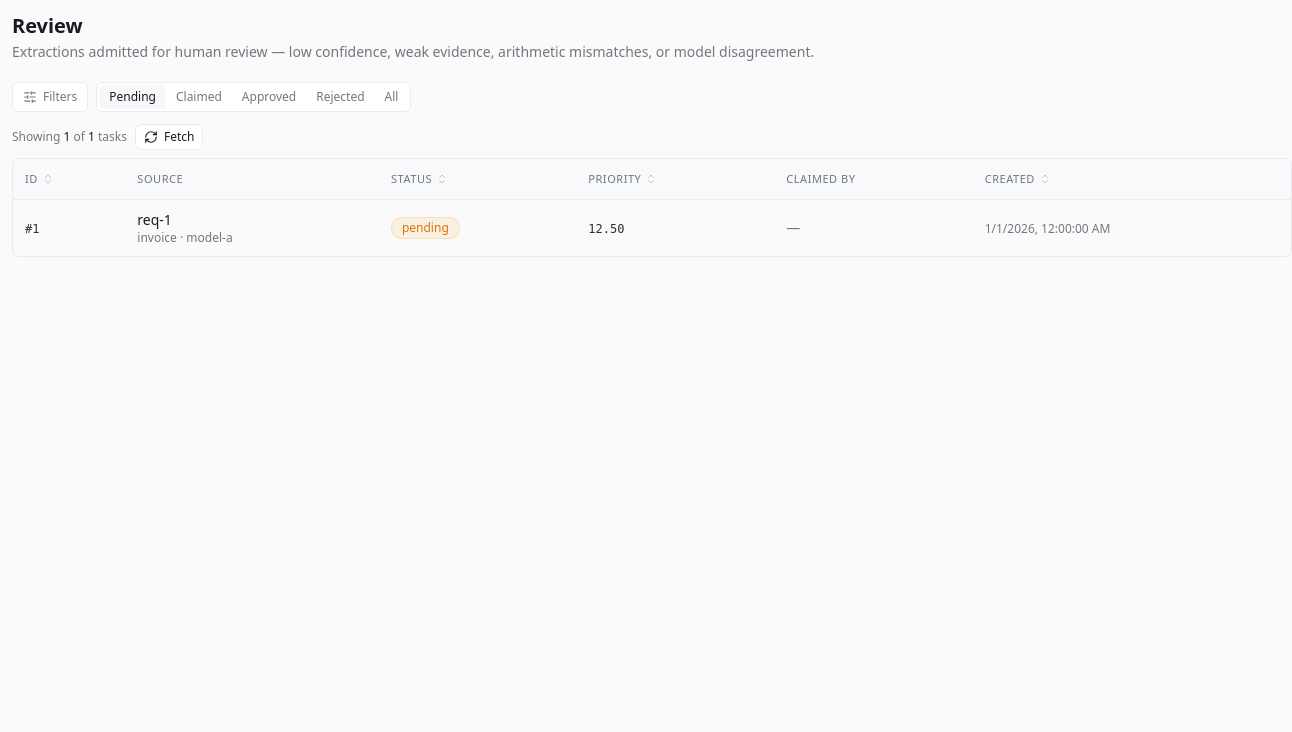
it: Review › renders schema-generated field rows pre-filled with their current values
Click the text "req-1" at [155, 220], box [137,210,172,229]
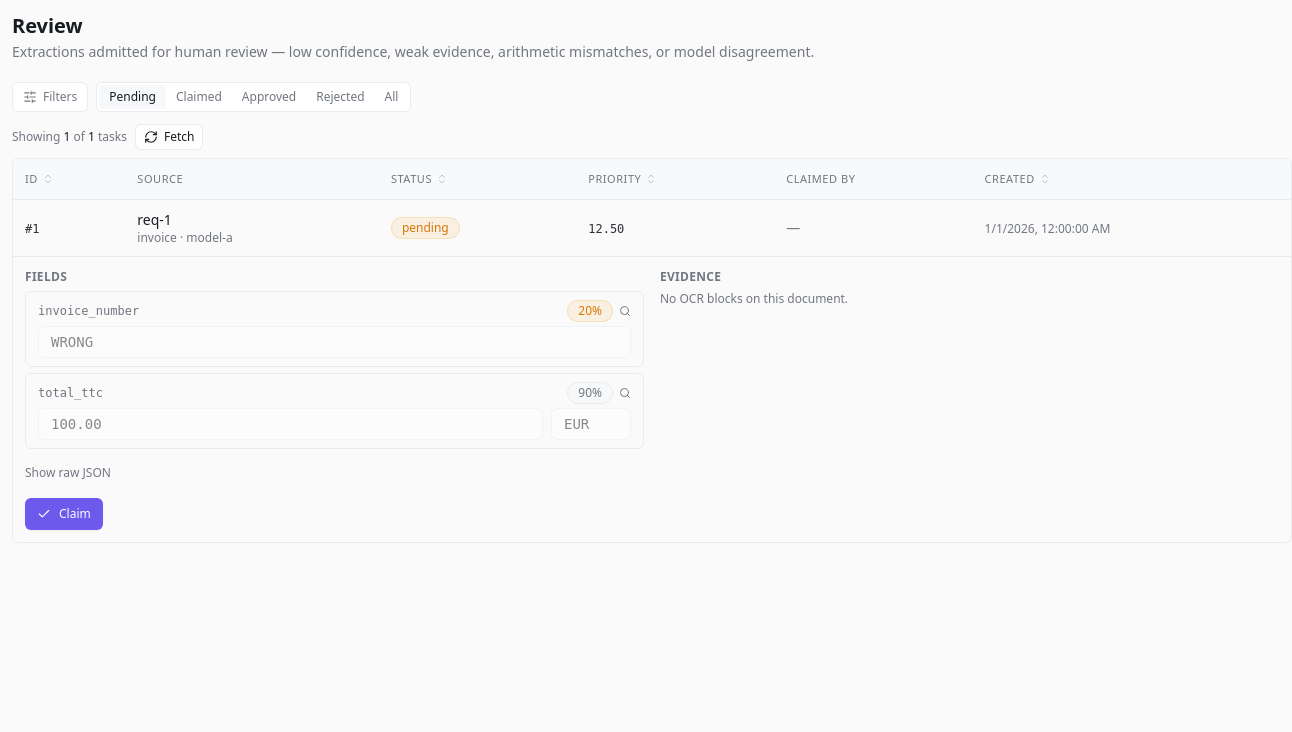
Now the field showing "WRONG" below "invoice_number" is shown, box [38,326,631,358]
Now the 2nd field showing "100.00" is shown, box [38,408,543,440]
Now the 3rd field showing "EUR" is shown, box [551,408,631,440]
